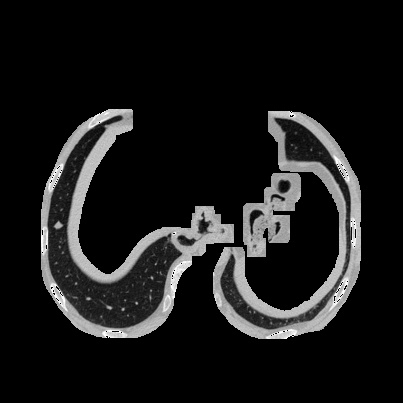PN: (54, 221, 62, 229)
